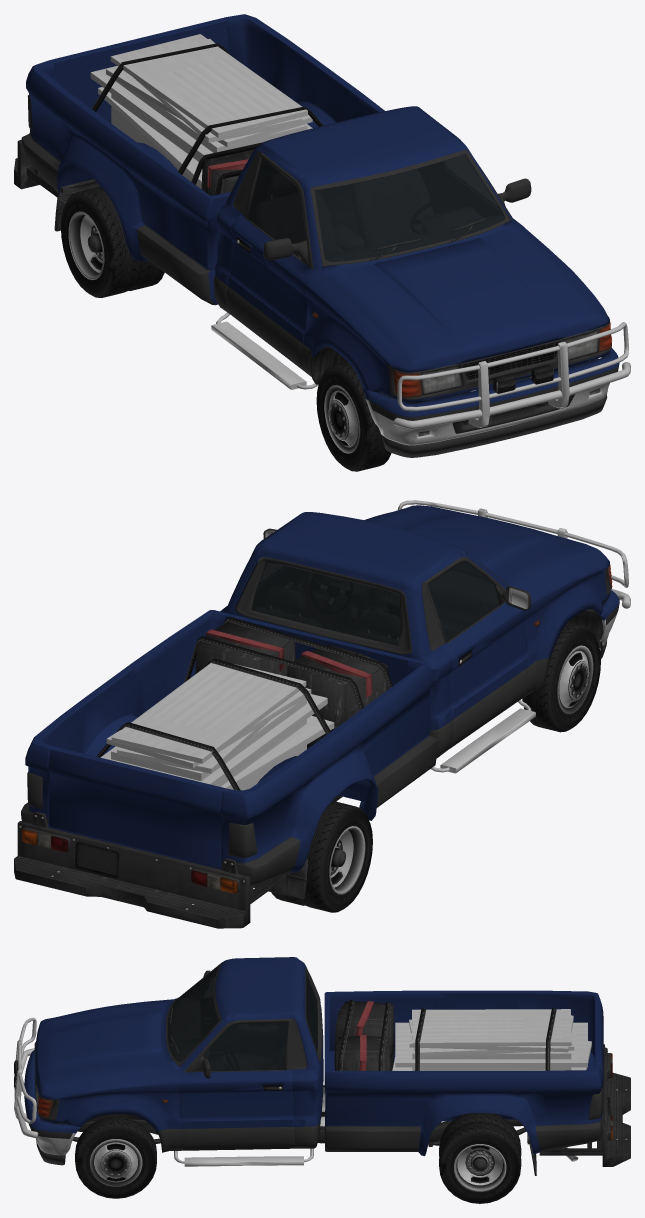
Rendered from veicolo_epoca_pickup.glb.
3 views of the same model, one above another, from view 1: azimuth 30°, elevation 25°; view 2: azimuth 150°, elevation 25°; view 3: azimuth 270°, elevation 25° (orthographic). The views are drawn at different scales.
Parts seen in each view (by area): view 1: sb_modello; view 2: sb_modello; view 3: sb_modello.
Part boxes in pixels (<box>): sb_modello: <box>14,14,630,471</box>; sb_modello: <box>14,500,630,928</box>; sb_modello: <box>14,957,630,1203</box>.
Size of the model in its own units: 2 by 1.66 by 5.36.
Materials: 6 (5 with a texture image).
